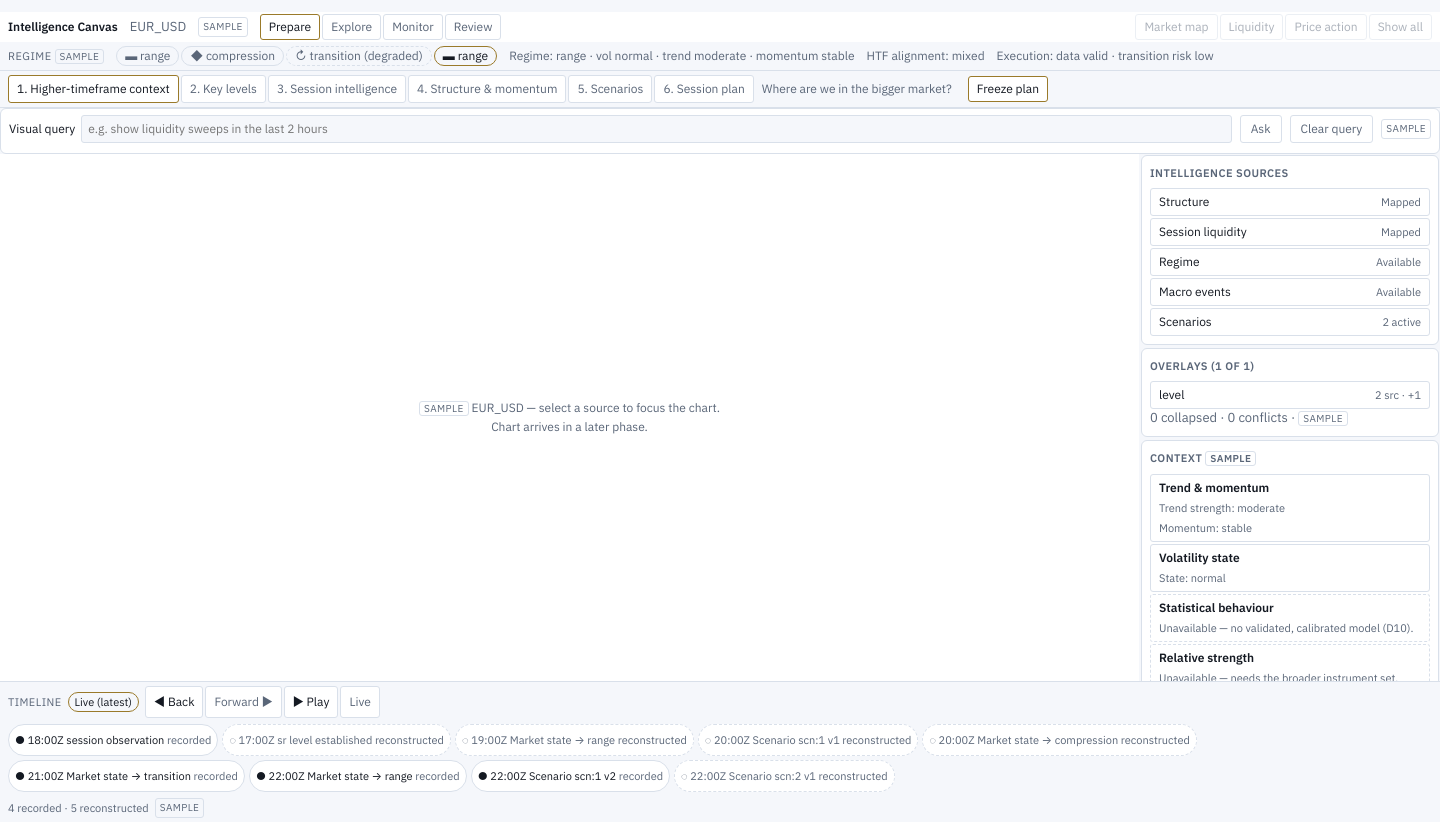
Test: F1 Intelligence Canvas shell › Monitor mode without a frozen plan prompts to prepare one
Click the button "Monitor" at (413, 27), box [383,14,443,40]
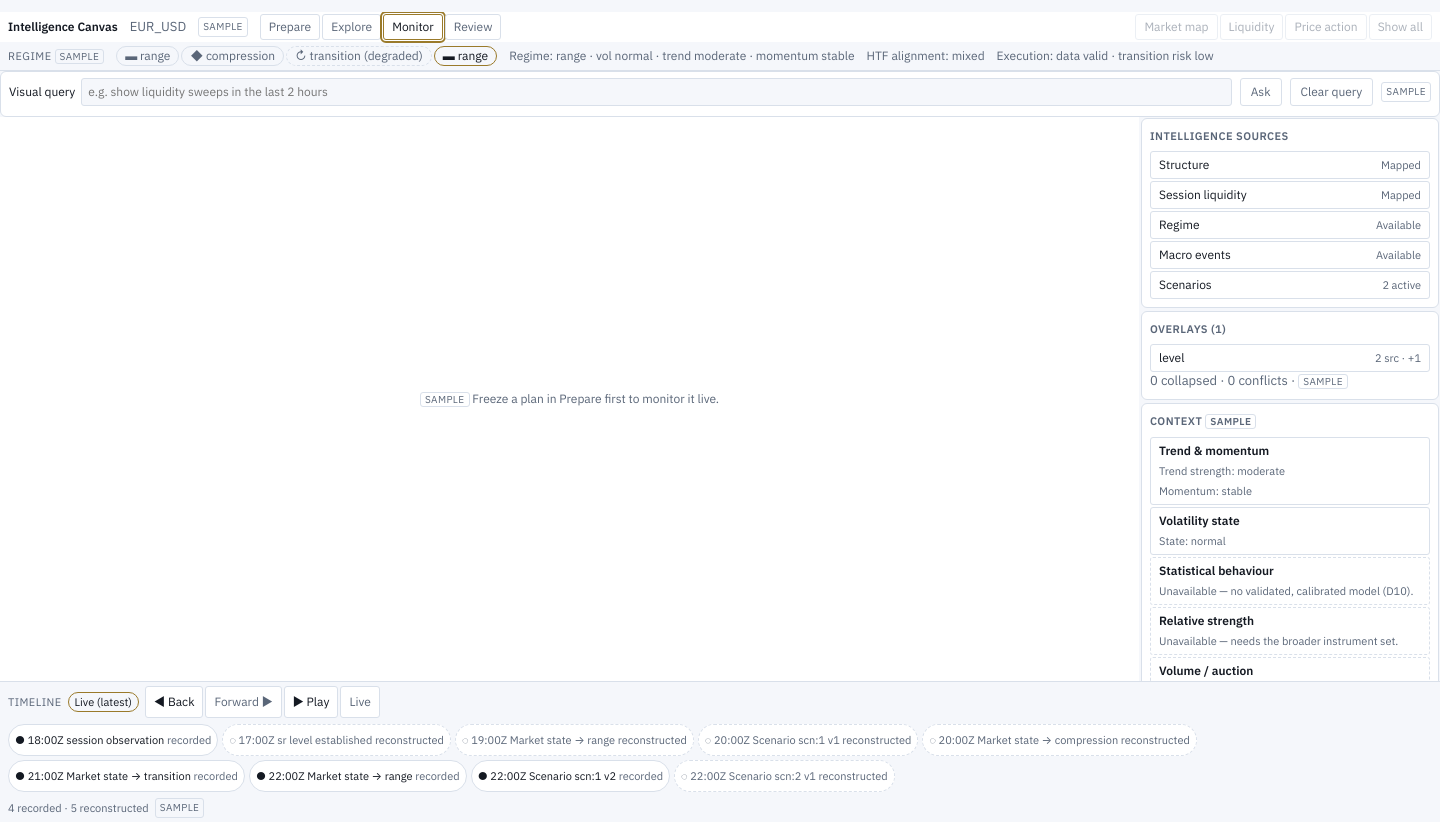
expect the element named "Chart" shows "Freeze a plan in Prepare first": met, box [470,390,719,406]
